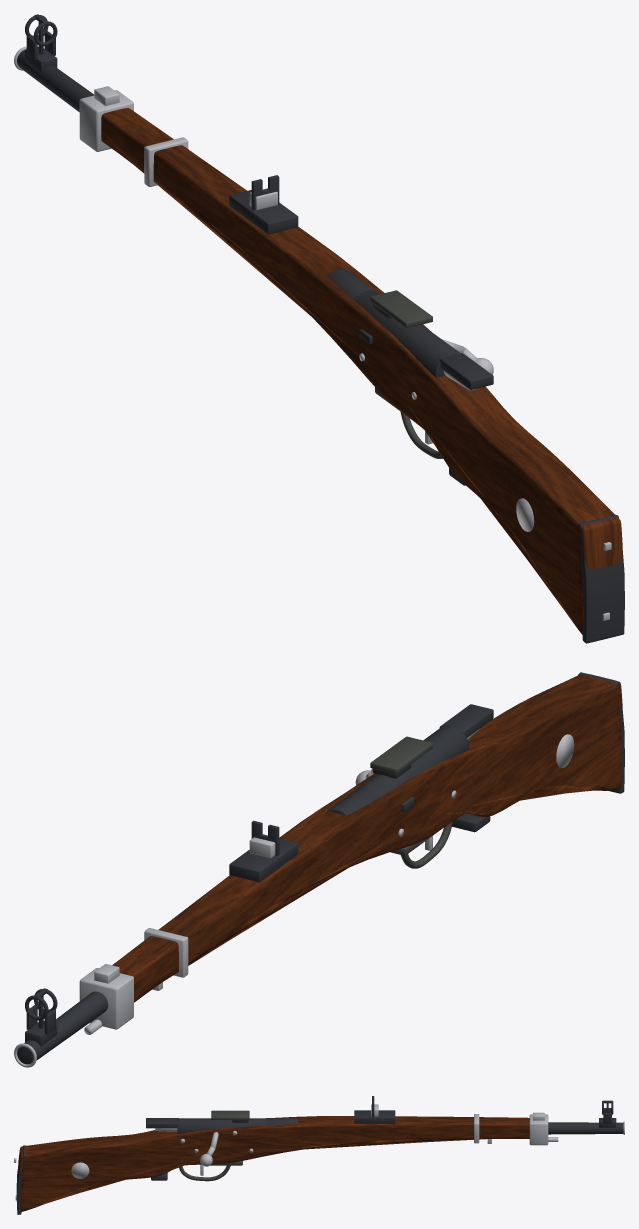
The model's file is kar98k.glb.
The picture shows the model from 3 angles, top to bottom: view 1: azimuth 30°, elevation 25°; view 2: azimuth 150°, elevation 25°; view 3: azimuth 270°, elevation 25°; orthographic projection. The views are drawn at different scales.
Parts seen in each view (by area): view 1: stock, butt_plate, receiver, rs_base, nose_cap, barrel, clip_guide, rear_tang; view 2: stock, receiver, barrel, nose_cap, rs_base, clip_guide, rear_tang, receiver_ring, band, trigger_guard; view 3: stock, receiver, barrel, nose_cap, rs_base, clip_guide, rear_tang, butt_plate, trigger_guard, sling_disc_R, receiver_ring.
Part boxes in pixels (box(x1,y1,x2,y2)): stock: box(101, 107, 622, 634); butt_plate: box(577, 514, 624, 643); receiver: box(354, 290, 460, 377); rs_base: box(229, 190, 298, 234); nose_cap: box(79, 90, 133, 151); barrel: box(17, 49, 93, 112); clip_guide: box(370, 290, 432, 327); rear_tang: box(439, 353, 493, 389); stock: box(112, 674, 622, 1002); receiver: box(357, 725, 468, 797); barrel: box(17, 991, 108, 1064); nose_cap: box(79, 968, 133, 1029); rs_base: box(229, 838, 298, 882); clip_guide: box(370, 736, 432, 774); rear_tang: box(439, 704, 493, 737); receiver_ring: box(327, 786, 380, 815); band: box(144, 928, 188, 977); trigger_guard: box(401, 821, 452, 868); stock: box(18, 1116, 529, 1211); receiver: box(177, 1118, 267, 1133); barrel: box(548, 1122, 623, 1134); nose_cap: box(529, 1114, 548, 1145); rs_base: box(354, 1110, 395, 1123); clip_guide: box(211, 1110, 249, 1119); rear_tang: box(146, 1118, 178, 1128); butt_plate: box(16, 1145, 26, 1214); trigger_guard: box(179, 1165, 230, 1181); sling_disc_R: box(71, 1162, 89, 1178); receiver_ring: box(265, 1118, 297, 1125).
Bounding box in the file's own units: 0.0993 × 0.2232 × 1.11.
4 materials, 1 textured.
